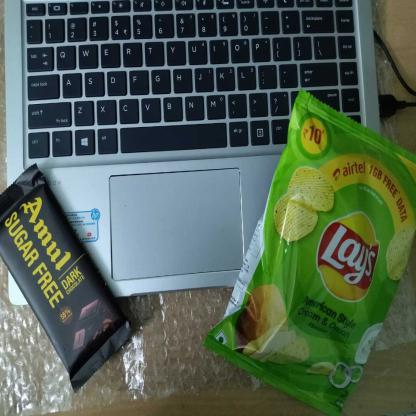cream_and_onion: (198, 88, 415, 415)
